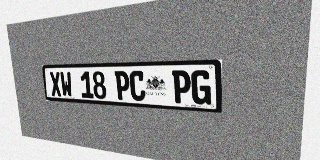1: (79, 71, 94, 98)
8: (92, 71, 107, 99)
C: (129, 71, 146, 101)
G: (191, 70, 211, 105)
P: (172, 70, 191, 104), (114, 71, 130, 100)
W: (60, 71, 73, 97)
X: (49, 72, 62, 97)
